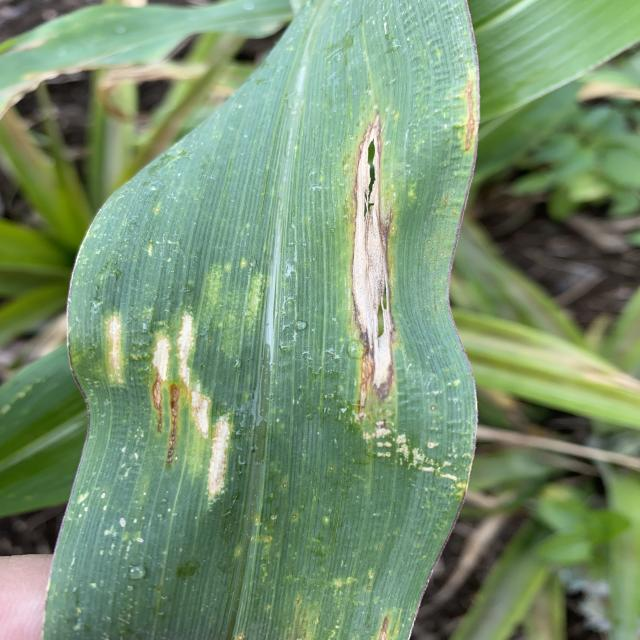Corn_Leaf_Blight: (50, 0, 488, 640)
